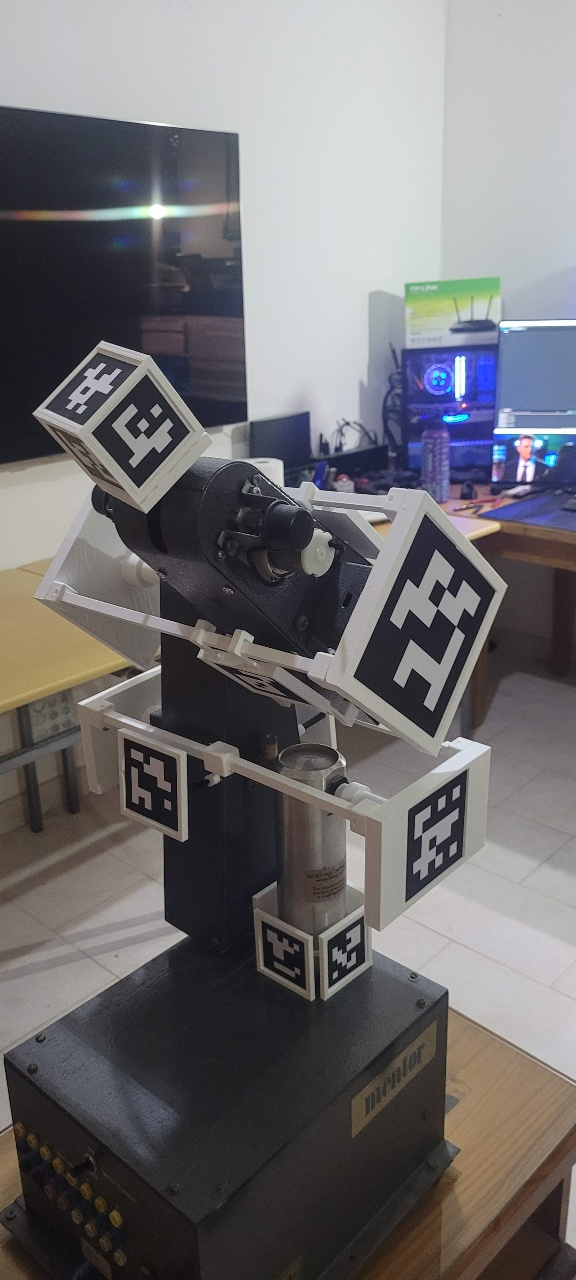Robot: (3, 346, 542, 937)
